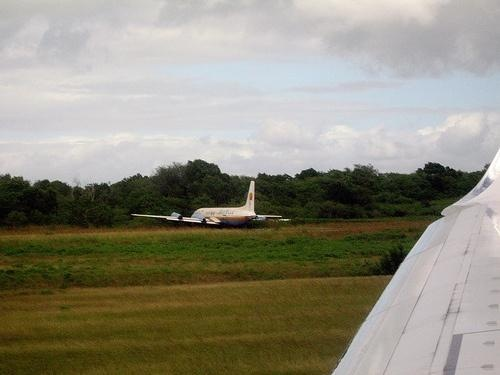aeroplane: (134, 180, 287, 230)
